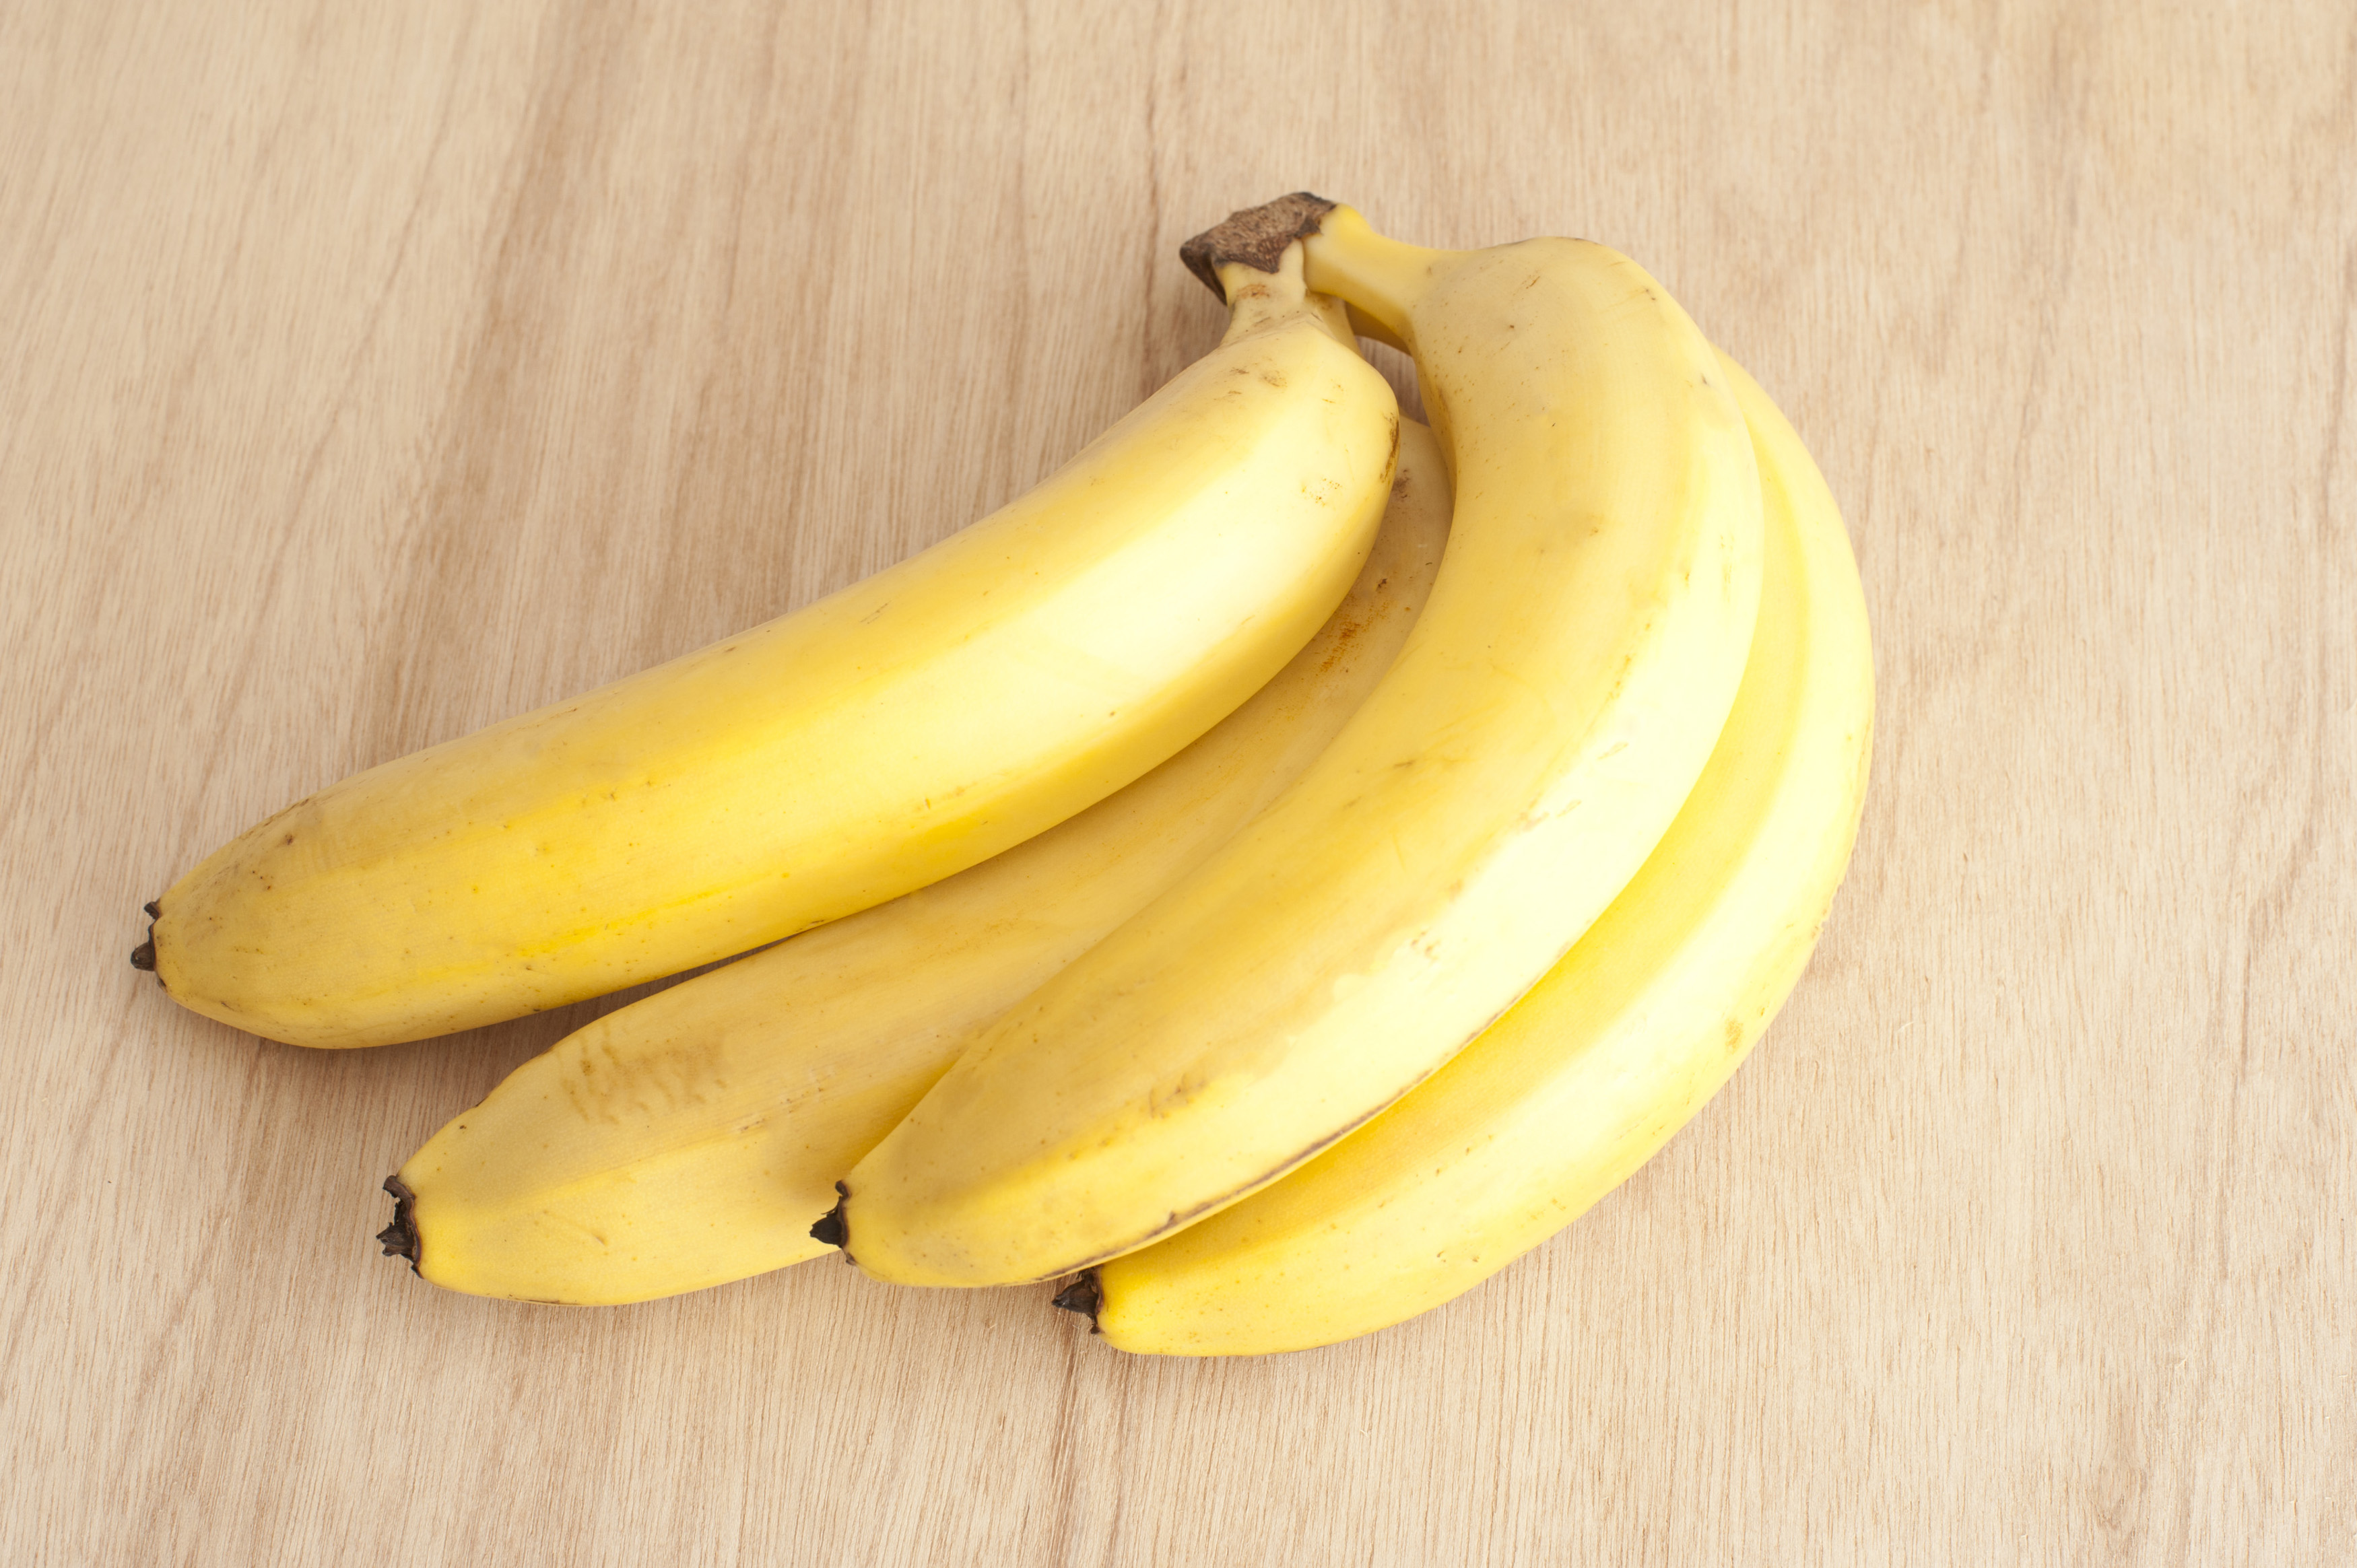Banana: (96, 136, 1904, 1419)
